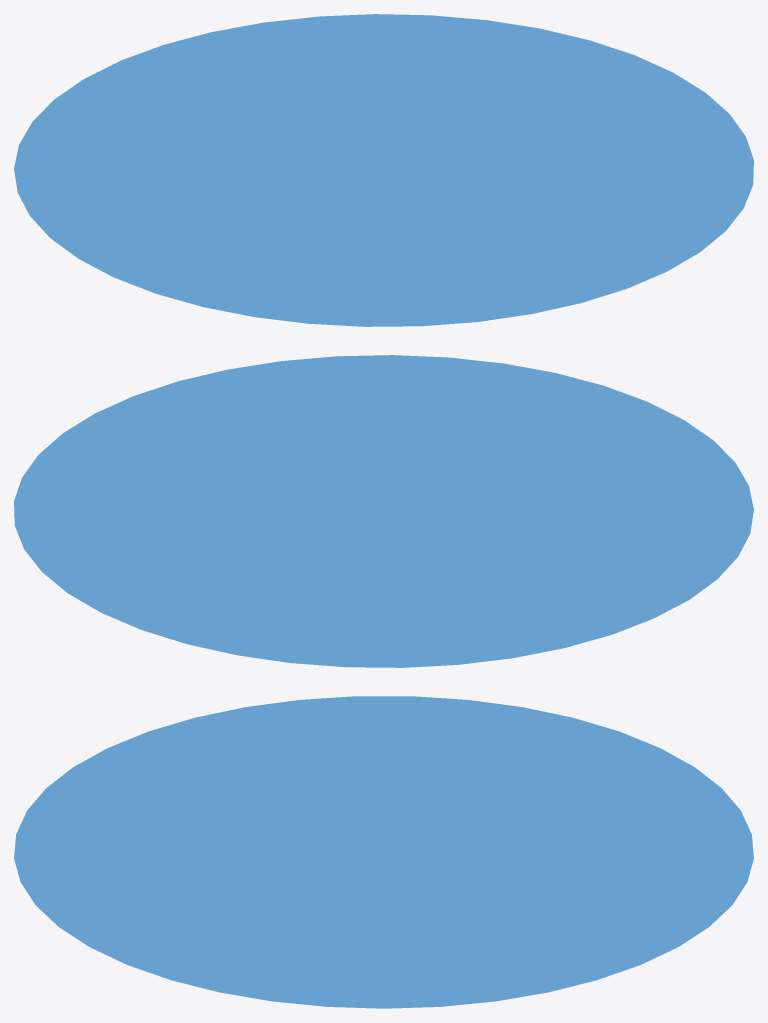
File: Area.fbx
3 renders of one model, top to bottom at view 1: azimuth 30°, elevation 25°; view 2: azimuth 150°, elevation 25°; view 3: azimuth 270°, elevation 25°, orthographic.
Visible parts, largest first — view 1: Object_1; view 2: Object_1; view 3: Object_1.
Boxes of the visible parts, x1,y1,x2,y2 form: Object_1: (14, 14, 753, 326); Object_1: (14, 355, 753, 667); Object_1: (14, 696, 753, 1008).
Size of the model in its own units: 69.9 by 0 by 69.95.
